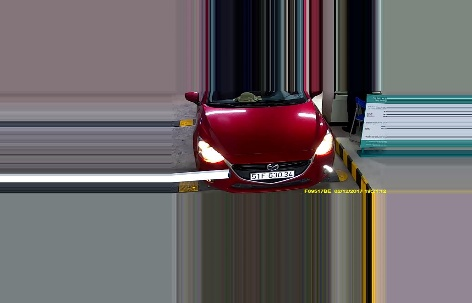plate: (246, 168, 296, 182)
